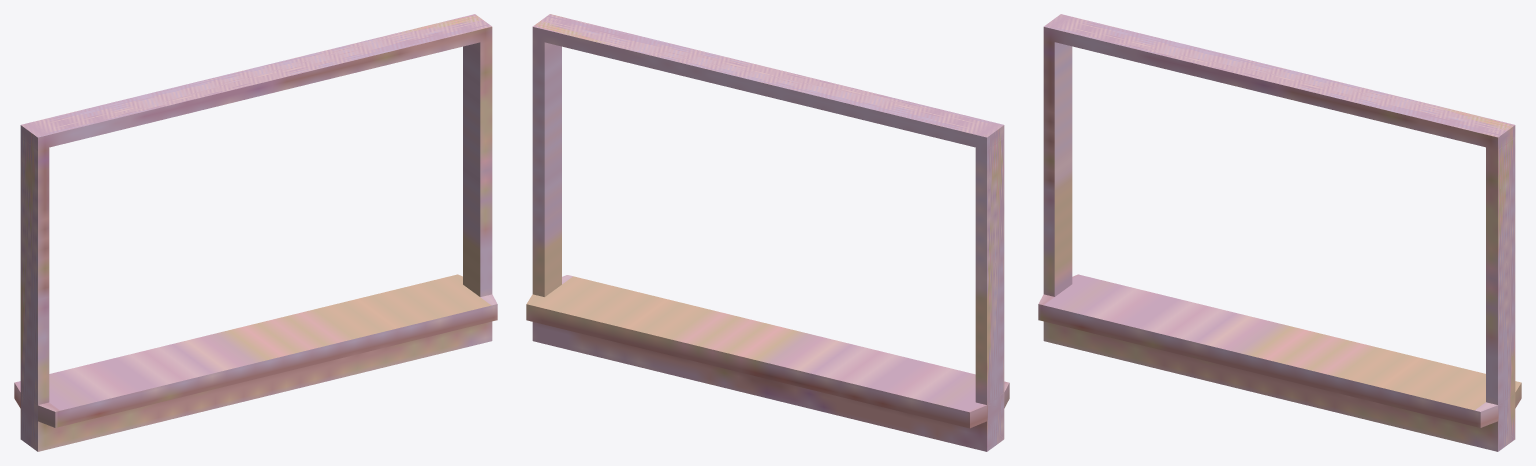
Rendered from window.fbx.
3 renders of one model, left to right at view 1: azimuth 30°, elevation 25°; view 2: azimuth 150°, elevation 25°; view 3: azimuth 330°, elevation 25°, orthographic.
Parts seen in each view (by area): view 1: window; view 2: window; view 3: window.
Boxes of the visible parts, bbox=[...] form: window: bbox=[14, 14, 497, 451]; window: bbox=[526, 14, 1009, 451]; window: bbox=[1038, 14, 1521, 451].
Size of the model in its own units: 1631 by 1078 by 251.
